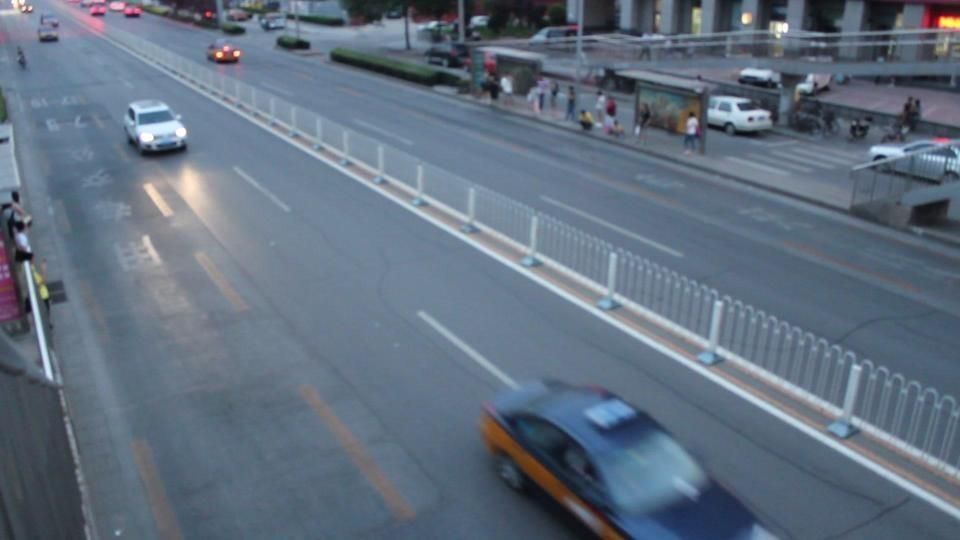car: (477, 377, 714, 538), (849, 140, 960, 228), (123, 97, 189, 155), (705, 96, 773, 136), (425, 42, 472, 69), (528, 26, 580, 48), (737, 66, 781, 88), (793, 73, 832, 97), (206, 40, 243, 64), (37, 16, 60, 42), (110, 2, 143, 18), (260, 14, 287, 30), (88, 1, 108, 16)
